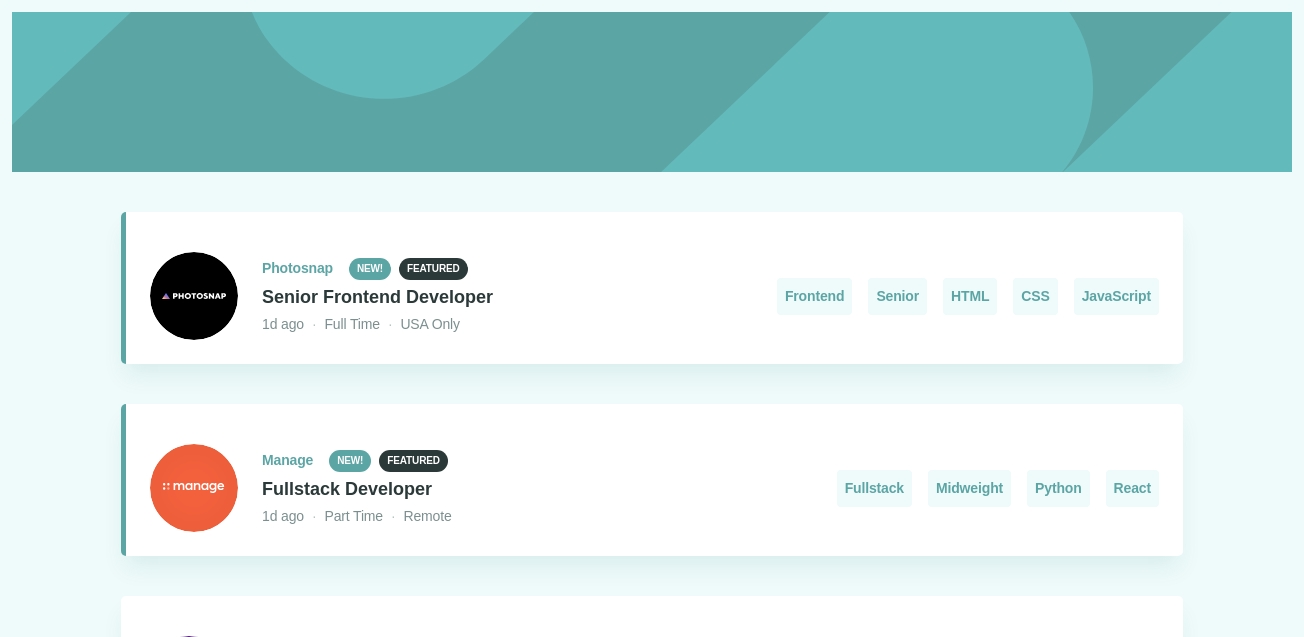
it: Job Listings App › clears all filters when clicking Clear
Click the button "Frontend" in the row of "Senior Frontend Developer" at (815, 297), box [777,278,853,315]
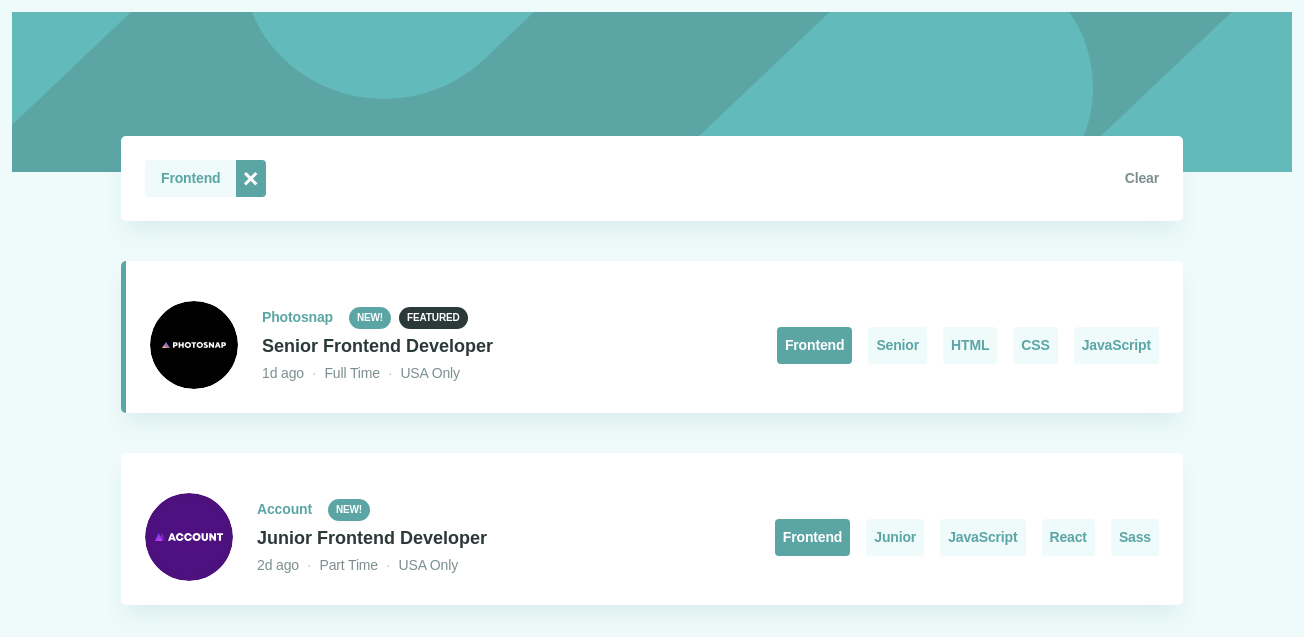
Click the button "Senior" at (898, 346), box [868,327,927,364]
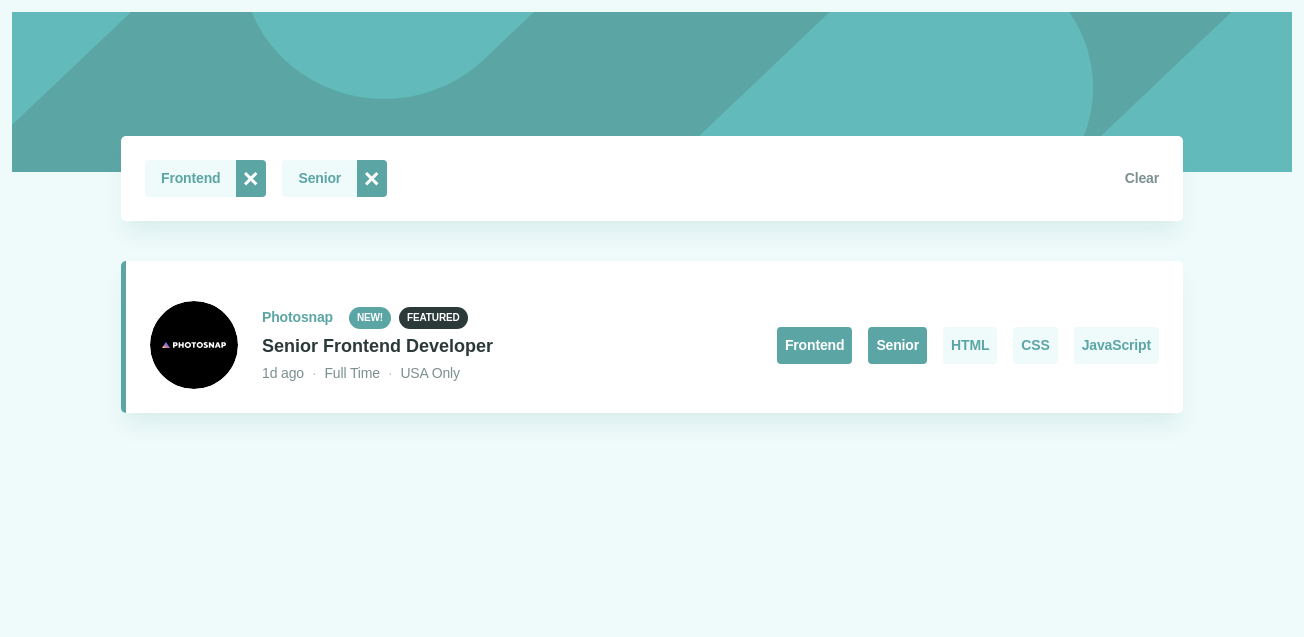
Expected: the element with class "filter-bar" is shown, [121,136,1183,221]
Expected: the number of elements with class "filter__label" is 2, [145,160,236,197]; [282,160,357,197]
Click the button with class "filter-bar__clear-btn" at (1058, 179), box [956,168,1159,189]
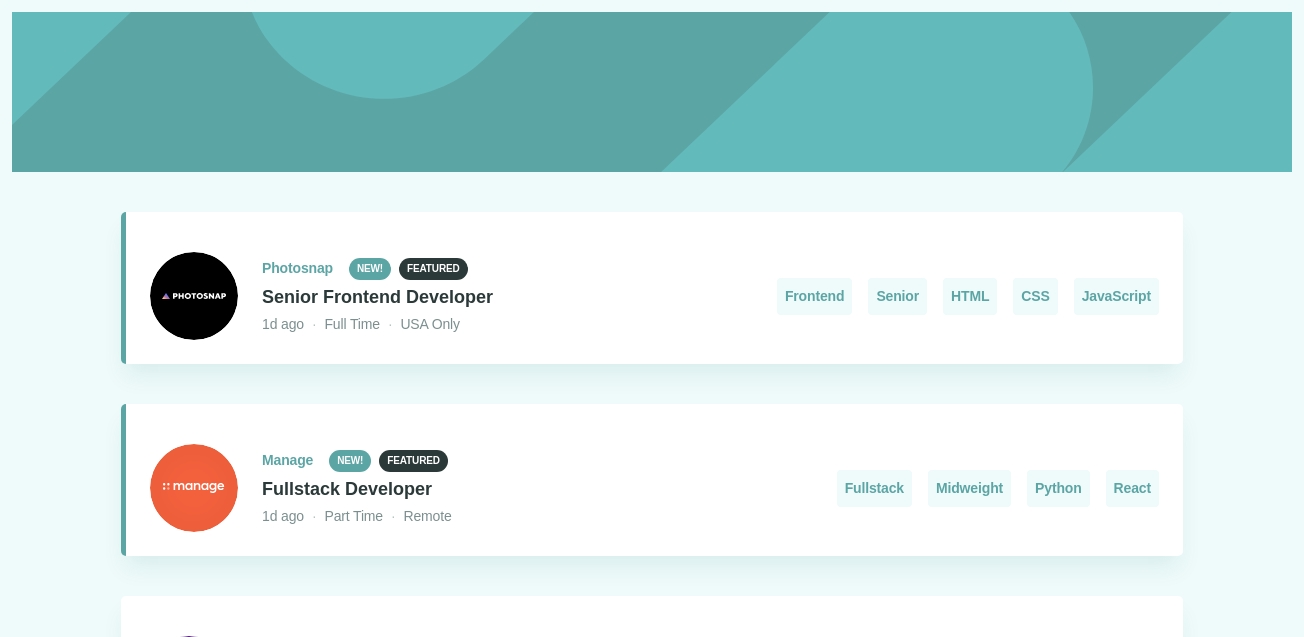
Expected: the element with class "filter-bar" is gone
Expected: the number of elements with test id "job-card" is 10
